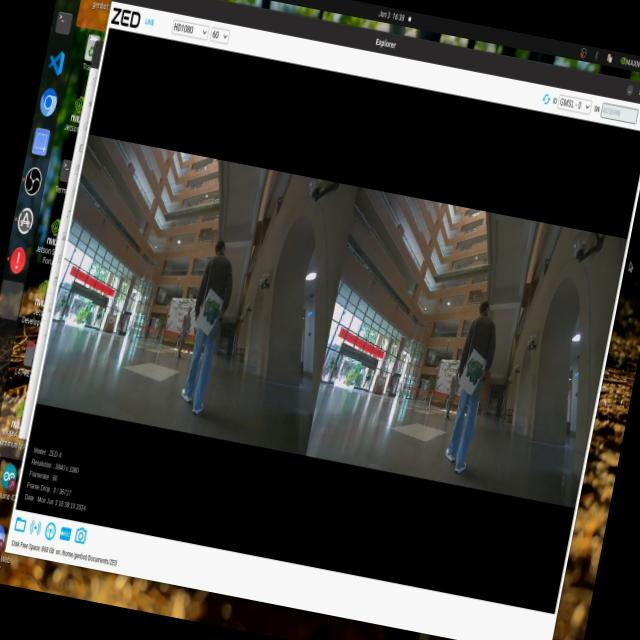green: (192, 283, 234, 347), (460, 349, 488, 397)
